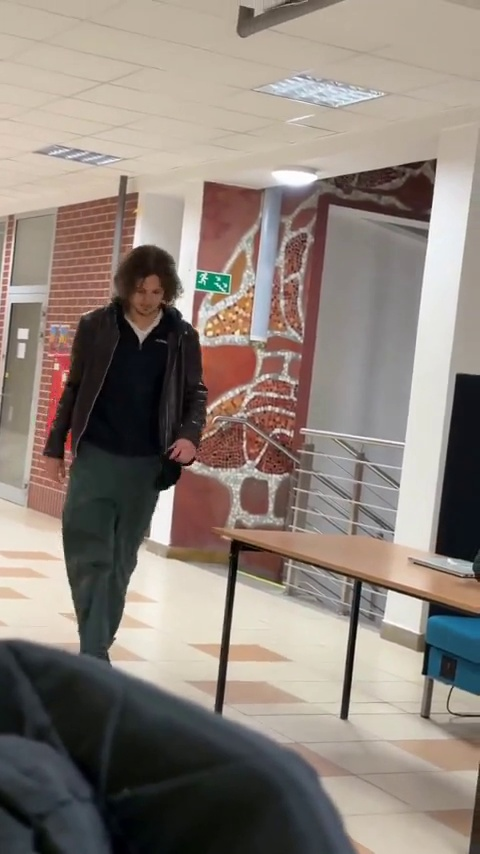no vest: (59, 249, 211, 678)
